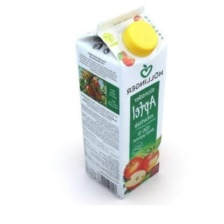carton: (69, 2, 171, 200)
